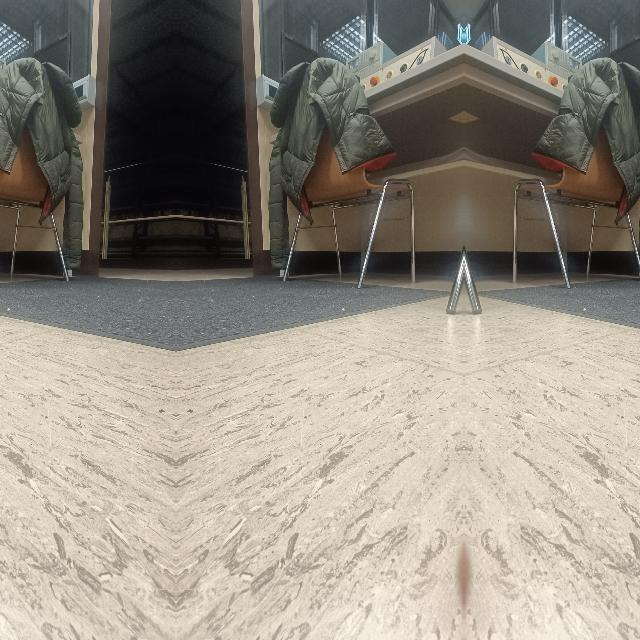obstacle: (280, 222, 380, 284), (546, 221, 640, 284), (0, 221, 70, 284), (442, 273, 464, 323), (464, 273, 486, 323)
